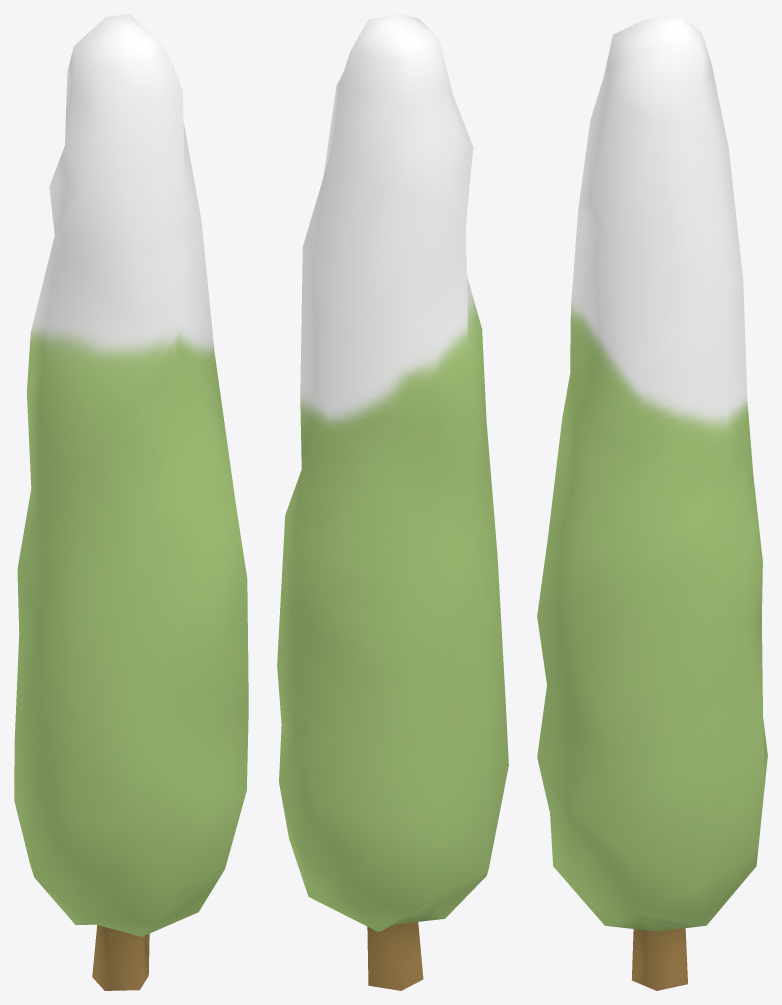
3 renders of one model, left to right at view 1: azimuth 30°, elevation 25°; view 2: azimuth 150°, elevation 25°; view 3: azimuth 270°, elevation 25°, orthographic.
Parts seen in each view (by area): view 1: wtuya; view 2: wtuya; view 3: wtuya.
Boxes of the visible parts, x1,y1,x2,y2 form: wtuya: (14, 14, 248, 990); wtuya: (277, 14, 508, 990); wtuya: (537, 14, 767, 990).
Size of the model in its own units: 4.33 by 19.99 by 4.34.
Materials: 1 (1 with a texture image).
